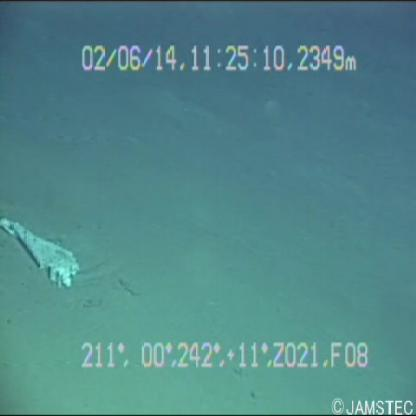Rác: (1, 197, 80, 292)
